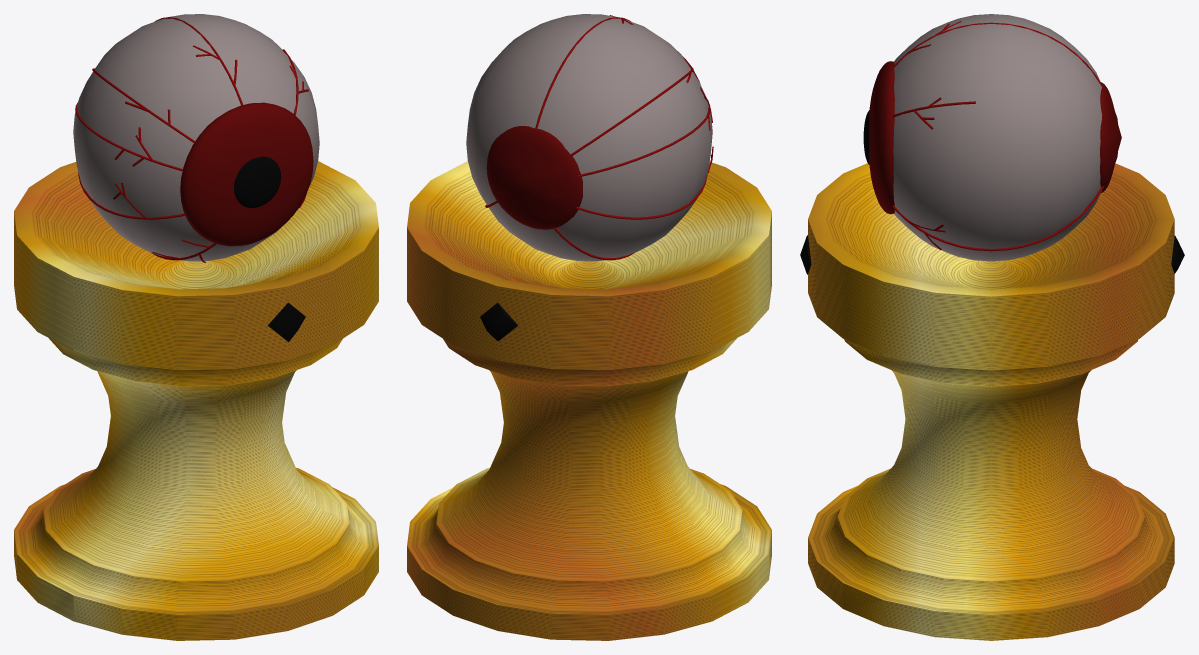
The model's file is EyeMonster.fbx.
The picture shows the model from 3 angles, left to right: view 1: azimuth 30°, elevation 25°; view 2: azimuth 150°, elevation 25°; view 3: azimuth 270°, elevation 25°; orthographic projection.
Visible parts, largest first — view 1: pCylinder3, pTorus36, pCube1; view 2: pCylinder3, pTorus36, pCube2; view 3: pCylinder3, pTorus36.
Part boxes in pixels (<box>): pCylinder3: <box>14,161,378,640</box>; pTorus36: <box>73,14,319,262</box>; pCube1: <box>268,302,305,342</box>; pCylinder3: <box>407,161,771,640</box>; pTorus36: <box>466,14,713,261</box>; pCube2: <box>480,302,517,340</box>; pCylinder3: <box>808,163,1174,640</box>; pTorus36: <box>863,14,1121,261</box>.
Bounding box in the file's own units: 6.1 × 9.89 × 6.4.
